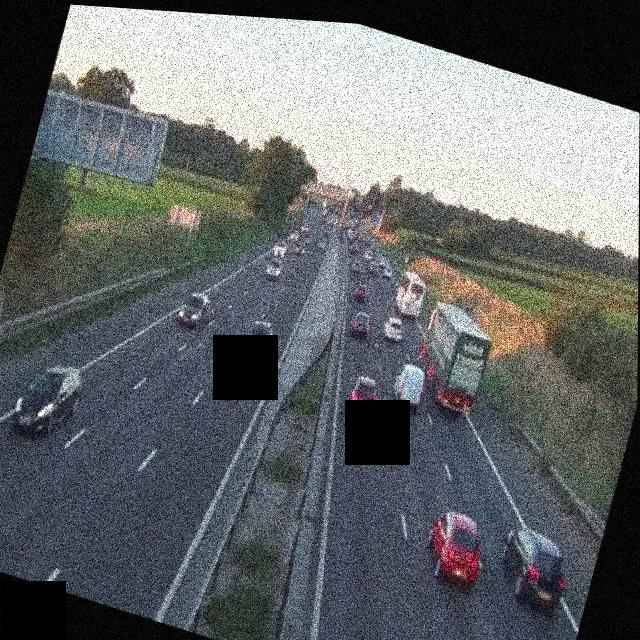bus: (409, 298, 496, 417), (391, 269, 429, 321)
car: (491, 522, 575, 614), (9, 352, 86, 447), (420, 504, 492, 590), (388, 359, 428, 411), (343, 373, 382, 423), (176, 287, 212, 332), (240, 316, 274, 363), (349, 308, 373, 340), (382, 314, 405, 343), (265, 254, 284, 281), (352, 281, 370, 303), (272, 240, 286, 260), (381, 261, 394, 279), (351, 258, 364, 274), (295, 243, 307, 259), (316, 235, 327, 250), (345, 240, 356, 255)
